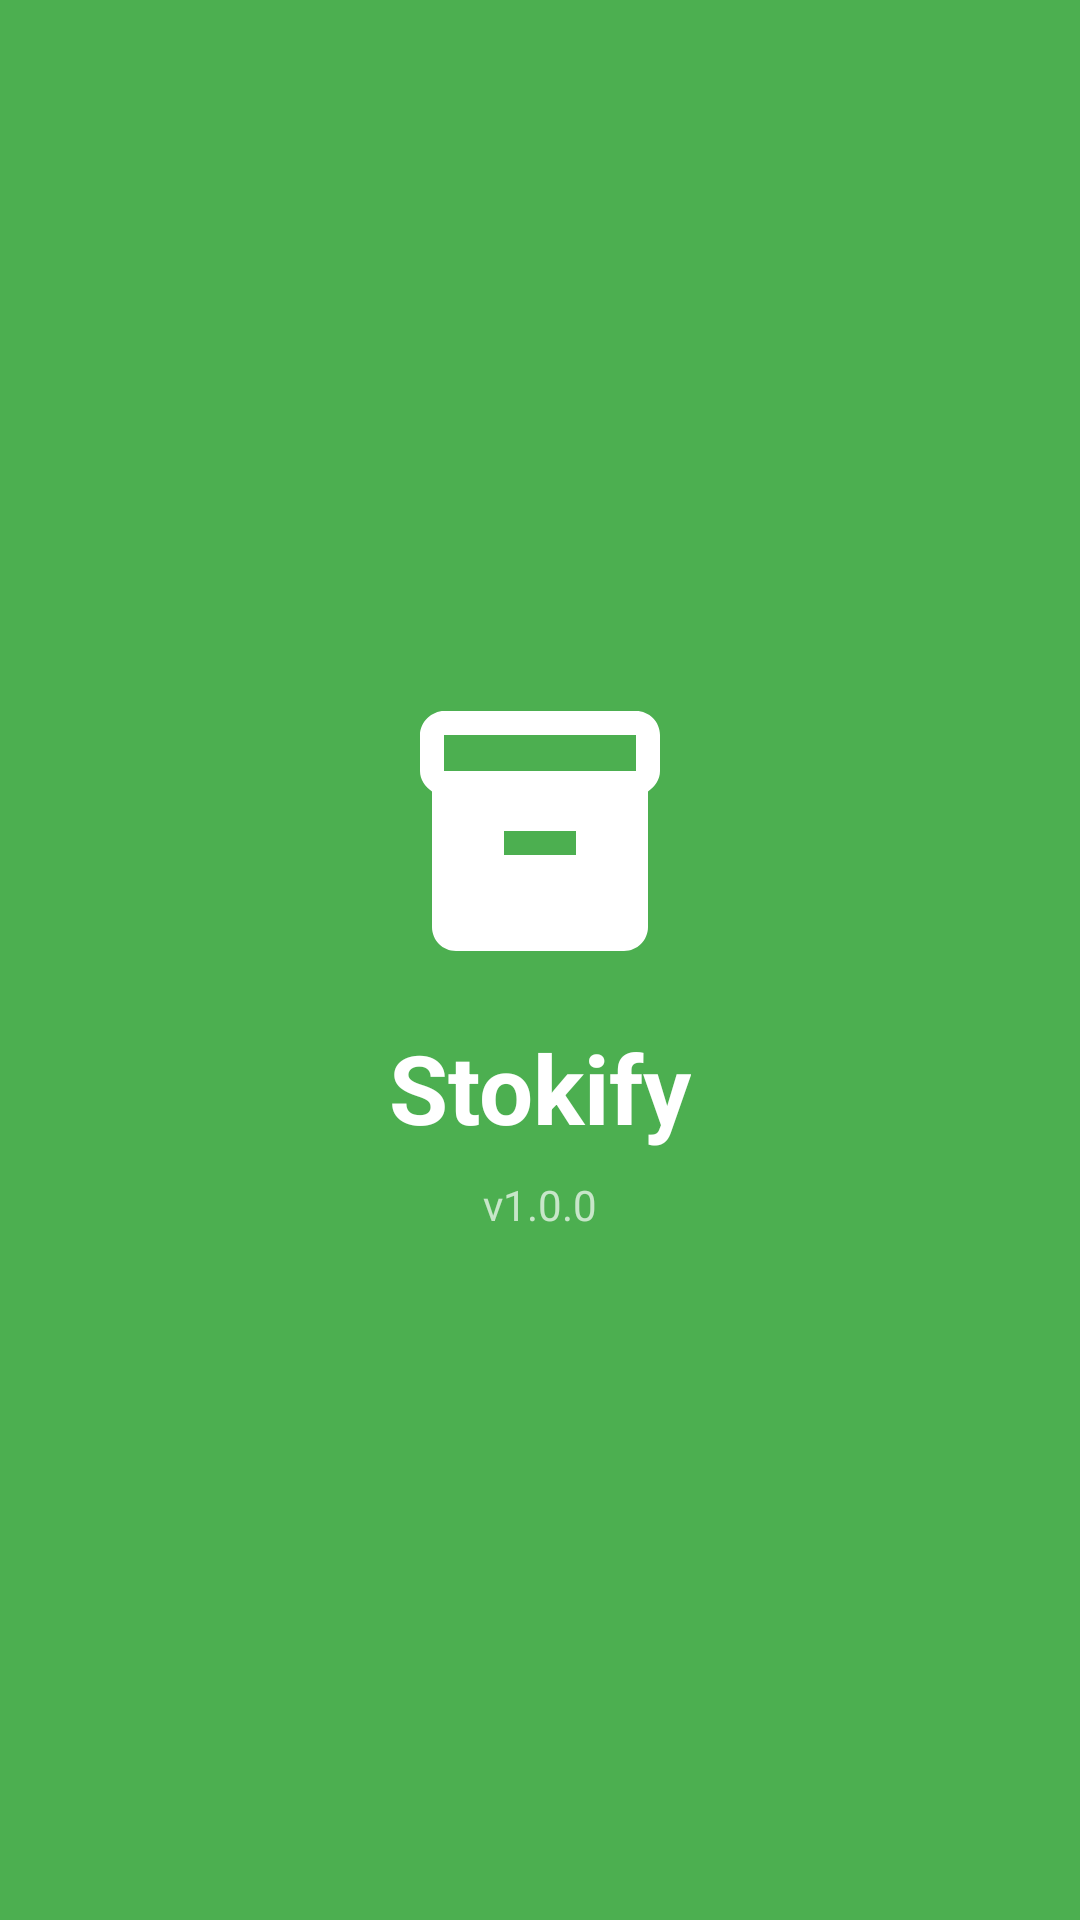

Named icons in this screenshot (1080x1920) and their centers, [x,y]:
inventory: [540,831]
